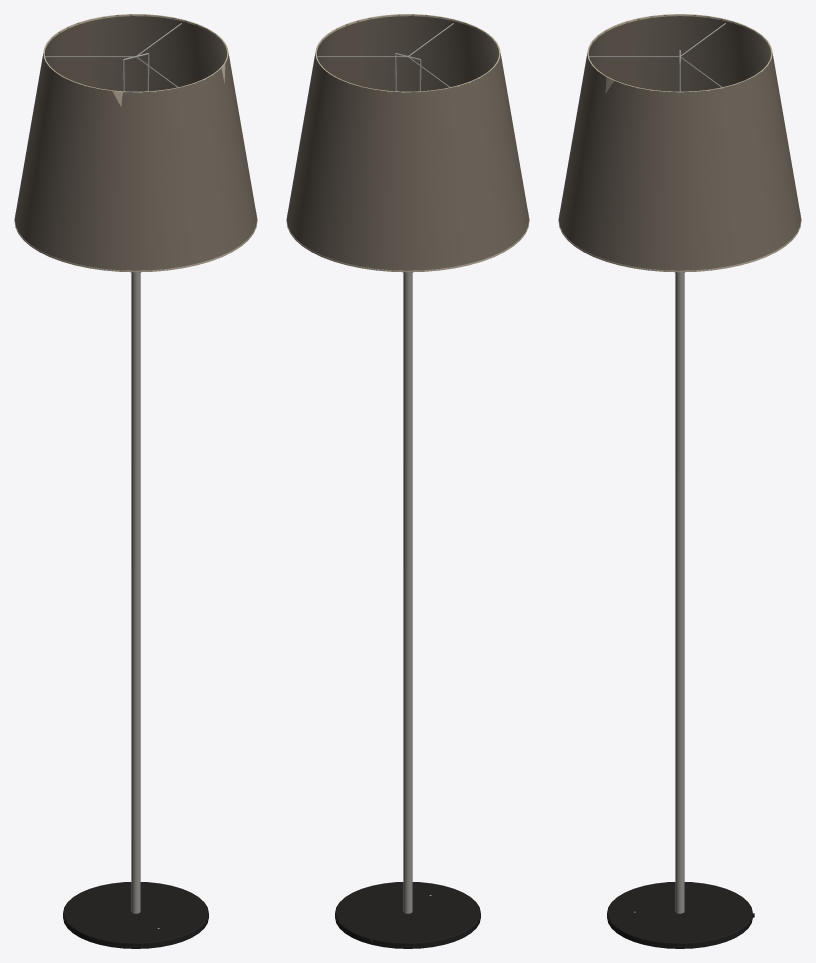
Rendered from bedroom-floor-lamp-ab49a1b657c9.glb.
3 views of the same model, side by side, from view 1: azimuth 30°, elevation 25°; view 2: azimuth 150°, elevation 25°; view 3: azimuth 270°, elevation 25° (orthographic).
Parts seen in each view (by area): view 1: cover-cloth, enamel-black, brushed, cloth-cream; view 2: cover-cloth, enamel-black, brushed, cloth-cream; view 3: cover-cloth, enamel-black, brushed, cloth-cream.
Boxes of the visible parts, bbox=[...] form: cover-cloth: bbox=[14, 14, 257, 272]; enamel-black: bbox=[63, 882, 208, 948]; brushed: bbox=[45, 23, 181, 928]; cloth-cream: bbox=[14, 14, 257, 272]; cover-cloth: bbox=[286, 14, 529, 272]; enamel-black: bbox=[335, 882, 480, 948]; brushed: bbox=[317, 23, 453, 913]; cloth-cream: bbox=[286, 14, 529, 272]; cover-cloth: bbox=[558, 15, 801, 272]; enamel-black: bbox=[607, 882, 752, 948]; brushed: bbox=[589, 23, 725, 913]; cloth-cream: bbox=[558, 14, 801, 272].
Bounding box in the file's own units: 0.4201 × 1.65 × 0.4201.
